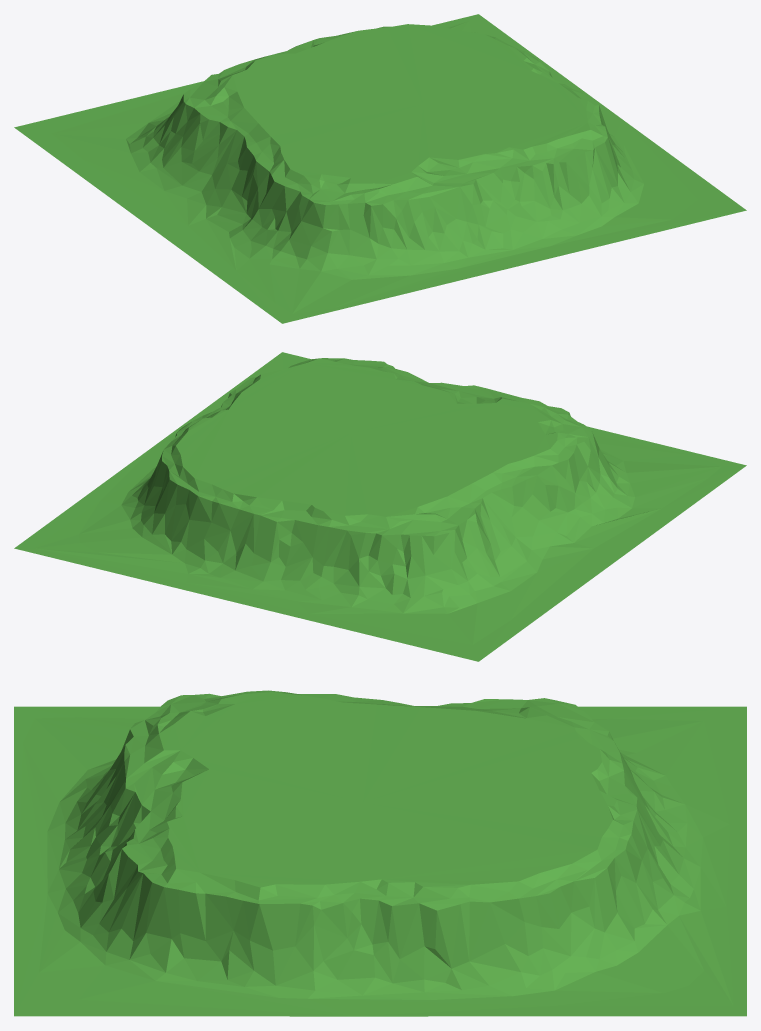
The model's file is hills03.fbx.
3 renders of one model, top to bottom at view 1: azimuth 30°, elevation 25°; view 2: azimuth 150°, elevation 25°; view 3: azimuth 270°, elevation 25°, orthographic. The views are drawn at different scales.
Visible parts, largest first — view 1: hills03; view 2: hills03; view 3: hills03.
Part boxes in pixels (x1,y1,x2,y2): hills03: (14, 14, 746, 323); hills03: (14, 352, 746, 661); hills03: (14, 690, 746, 1016).
Bounding box in the file's own units: 1000 × 125 × 1000.
